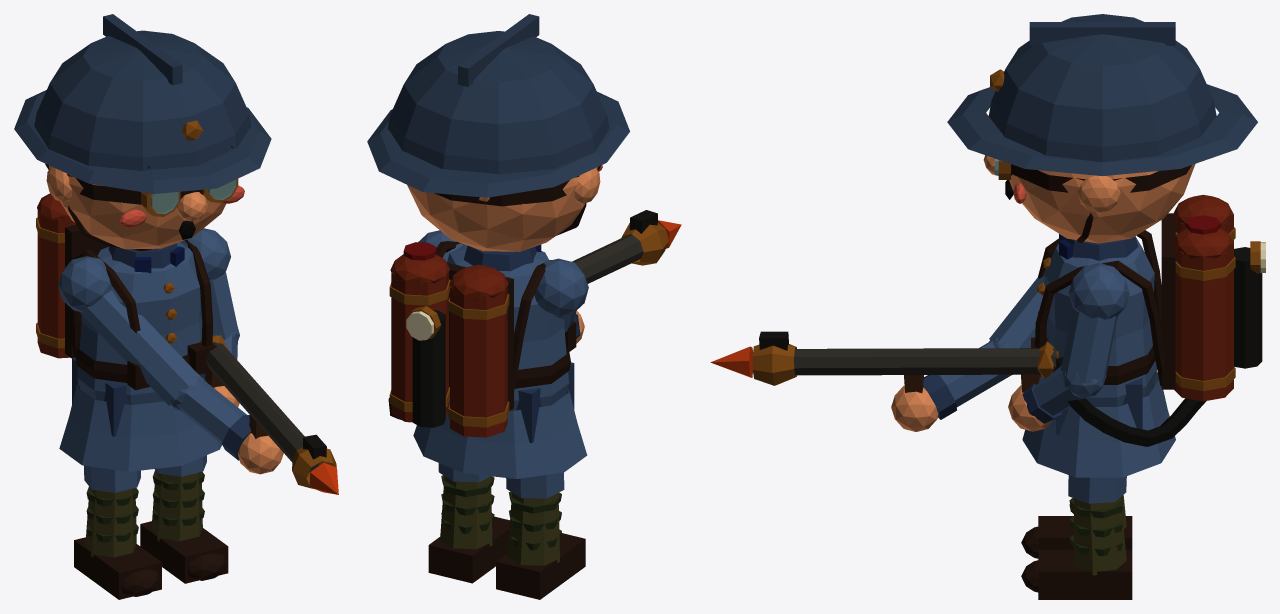
File: Lanzallamas_CascoAdrian.obj
The picture shows the model from 3 angles, left to right: view 1: azimuth 30°, elevation 25°; view 2: azimuth 150°, elevation 25°; view 3: azimuth 270°, elevation 25°; orthographic projection. The views are drawn at different scales.
Visible parts, largest first — view 1: Cuerpo, Pierna_I, Pierna_D; view 2: Cuerpo, Pierna_I, Pierna_D; view 3: Cuerpo, Pierna_D, Pierna_I.
Part boxes in pixels (x1=…): Cuerpo: x1=14, y1=14, x2=338, y2=494; Pierna_I: x1=74, y1=465, x2=161, y2=599; Pierna_D: x1=140, y1=455, x2=228, y2=583; Cuerpo: x1=367, y1=14, x2=681, y2=478; Pierna_I: x1=496, y1=472, x2=585, y2=599; Pierna_D: x1=428, y1=463, x2=509, y2=583; Cuerpo: x1=710, y1=14, x2=1265, y2=477; Pierna_D: x1=1021, y1=475, x2=1132, y2=599; Pierna_I: x1=1021, y1=495, x2=1132, y2=558.
Size of the model in its own units: 0.736 by 1.75 by 1.6.
